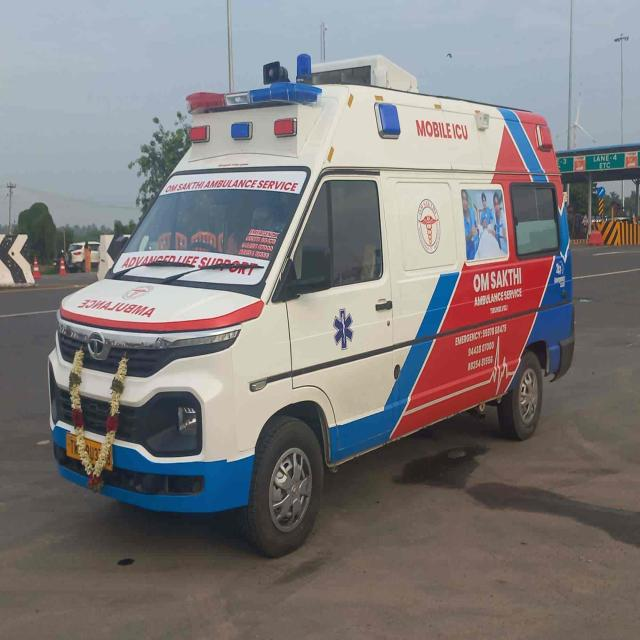emergency: (49, 55, 575, 557)
